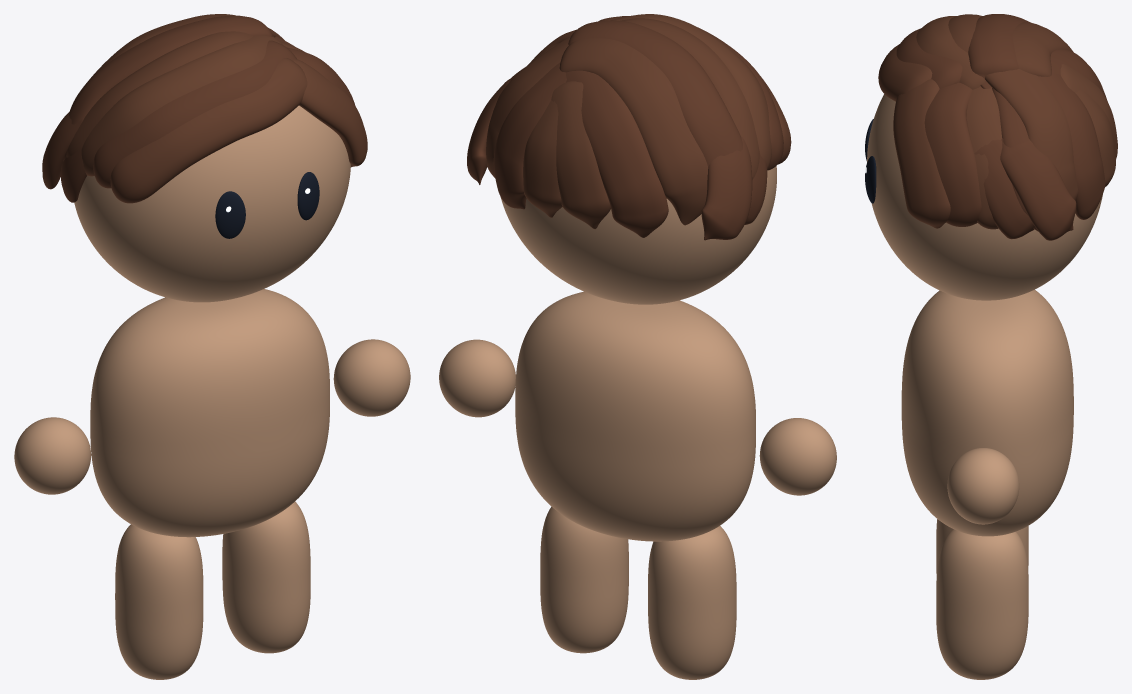
The model's file is Masculine-skin2.glb.
3 renders of one model, left to right at view 1: azimuth 30°, elevation 25°; view 2: azimuth 150°, elevation 25°; view 3: azimuth 270°, elevation 25°, orthographic. The views are drawn at different scales.
Parts seen in each view (by area): view 1: Skin / compact torso, Skin / soft oval head, Skin / leg -1, Skin / leg 1, Hair / Main sweep 0, Hair / Main sweep 2, Hair / Main sweep 1, Skin / hand -1, Skin / hand 1, Hair / Crown sweep, Hair / Main sweep 3, Hair / Short side 0 (+6 smaller); view 2: Skin / compact torso, Skin / soft oval head, Skin / leg -1, Skin / leg 1, Hair / Back sweep 0, Hair / Back sweep 1, Hair / Crown sweep, Hair / Back sweep 2, Skin / hand 1, Skin / hand -1, Hair / Back sweep 4, Hair / Temple -1 1 (+7 smaller); view 3: Skin / compact torso, Skin / soft oval head, Skin / leg 1, Hair / Short side 1, Hair / Short side 0, Hair / Back sweep 3, Hair / Temple 1 1, Skin / hand 1, Hair / Back sweep 4, Hair / Crown sweep, Hair / Temple 1 0, Hair / Short side 2 (+11 smaller).
Boxes of the visible parts, x1,y1,x2,y2 form: Skin / compact torso: (90,289,329,537); Skin / soft oval head: (74,105,350,302); Skin / leg -1: (115,524,203,679); Skin / leg 1: (222,501,310,653); Hair / Main sweep 0: (110,58,307,203); Hair / Main sweep 2: (81,35,282,176); Hair / Main sweep 1: (93,40,296,188); Skin / hand -1: (14,417,91,494); Skin / hand 1: (333,339,410,416); Hair / Crown sweep: (63,15,272,161); Hair / Main sweep 3: (66,31,253,157); Hair / Short side 0: (293,59,367,167); Skin / compact torso: (515,291,755,541); Skin / soft oval head: (500,166,776,304); Skin / leg -1: (648,526,736,679); Skin / leg 1: (540,506,628,653); Hair / Back sweep 0: (559,38,708,225); Hair / Back sweep 1: (566,70,668,237); Hair / Crown sweep: (568,20,742,166); Hair / Back sweep 2: (551,81,610,229); Skin / hand 1: (439,339,515,417); Skin / hand -1: (759,418,836,495); Hair / Back sweep 4: (493,62,566,209); Hair / Temple -1 1: (701,136,752,240); Skin / compact torso: (901,289,1073,536); Skin / soft oval head: (867,94,1102,300); Skin / leg 1: (936,529,1028,679); Hair / Short side 1: (924,82,981,226); Hair / Short side 0: (893,79,950,228); Hair / Back sweep 3: (985,69,1078,200); Hair / Temple 1 1: (1000,138,1076,240); Skin / hand 1: (947,448,1019,524); Hair / Back sweep 4: (1039,73,1105,219); Hair / Crown sweep: (968,14,1030,88); Hair / Temple 1 0: (974,139,1034,239); Hair / Short side 2: (966,87,1001,229).
Size of the model in its own units: 1.49 by 2.32 by 0.8581.
